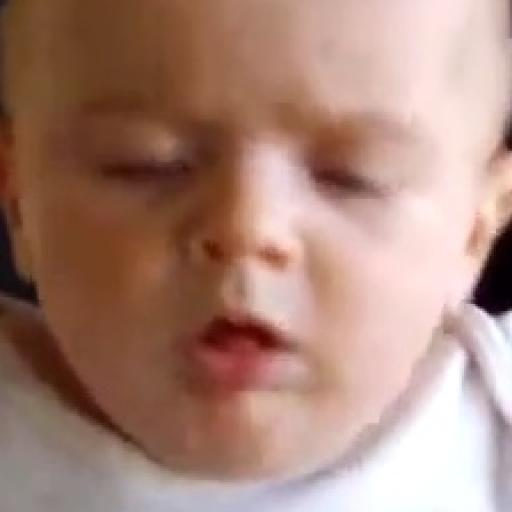Autism: (0, 6, 499, 483)
